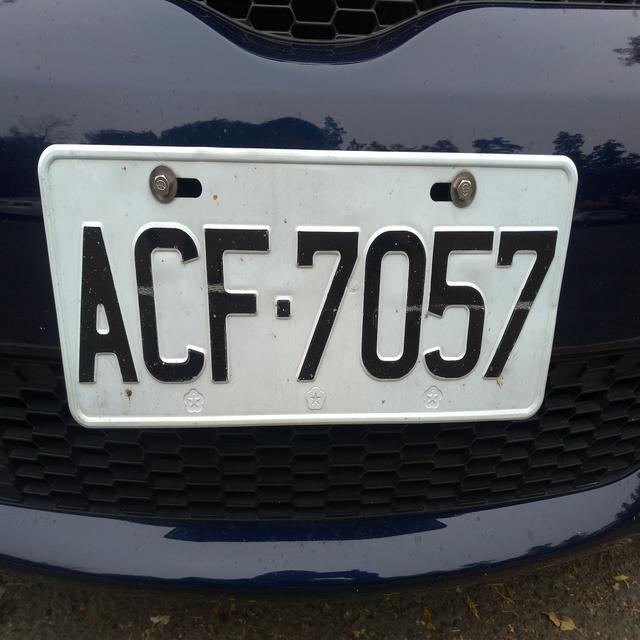plate: (50, 207, 566, 395)
